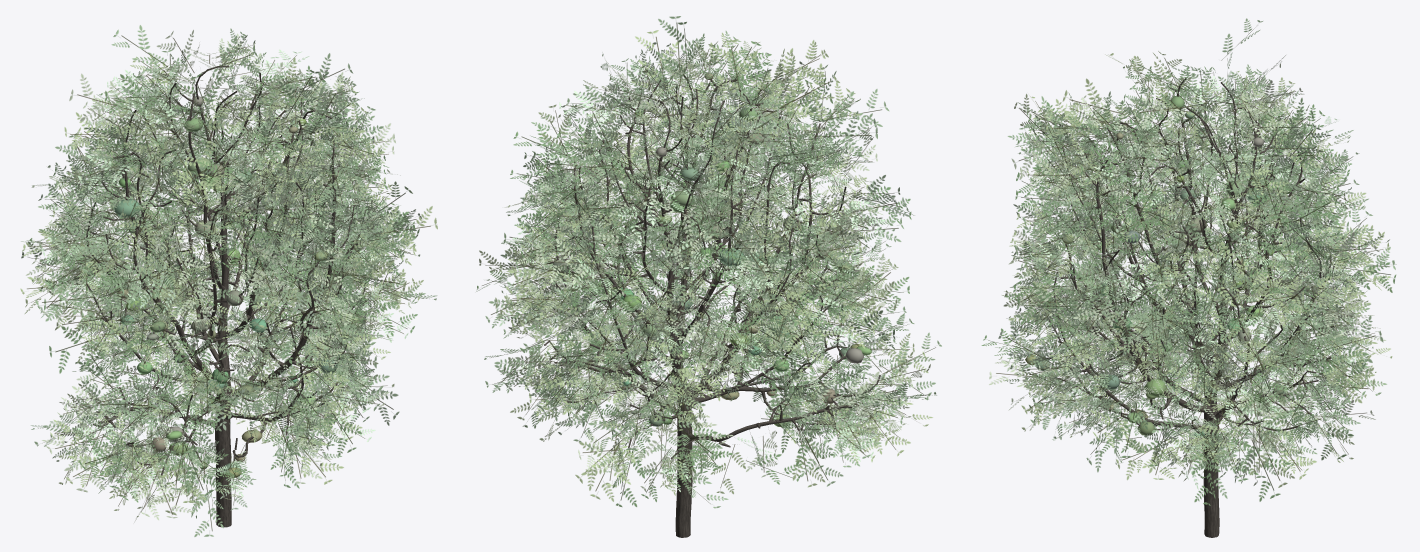
File: tree_29_broadleaf.glb
3 renders of one model, left to right at view 1: azimuth 30°, elevation 25°; view 2: azimuth 150°, elevation 25°; view 3: azimuth 270°, elevation 25°, orthographic. The views are drawn at different scales.
Parts seen in each view (by area): view 1: tree_29_broadleaf.leaves, tree_29_broadleaf.trunk_branches, tree_29_broadleaf.foliage_volume; view 2: tree_29_broadleaf.leaves, tree_29_broadleaf.trunk_branches, tree_29_broadleaf.foliage_volume; view 3: tree_29_broadleaf.leaves, tree_29_broadleaf.trunk_branches, tree_29_broadleaf.foliage_volume.
Boxes of the visible parts, x1,y1,x2,y2 form: tree_29_broadleaf.leaves: (20, 25, 437, 536); tree_29_broadleaf.trunk_branches: (75, 65, 368, 527); tree_29_broadleaf.foliage_volume: (114, 96, 363, 478); tree_29_broadleaf.leaves: (476, 16, 941, 508); tree_29_broadleaf.trunk_branches: (544, 75, 880, 537); tree_29_broadleaf.foliage_volume: (552, 73, 871, 426); tree_29_broadleaf.leaves: (981, 18, 1396, 505); tree_29_broadleaf.trunk_branches: (1043, 78, 1335, 537); tree_29_broadleaf.foliage_volume: (1025, 95, 1332, 437).
Bounding box in the file's own units: 9.8 × 11.93 × 9.56.
3 materials, 2 textured.
